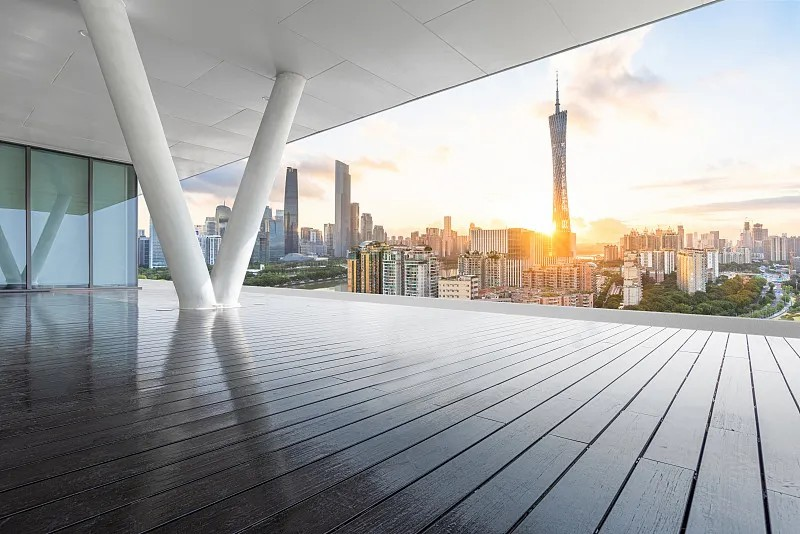Canton: (547, 72, 572, 258)
